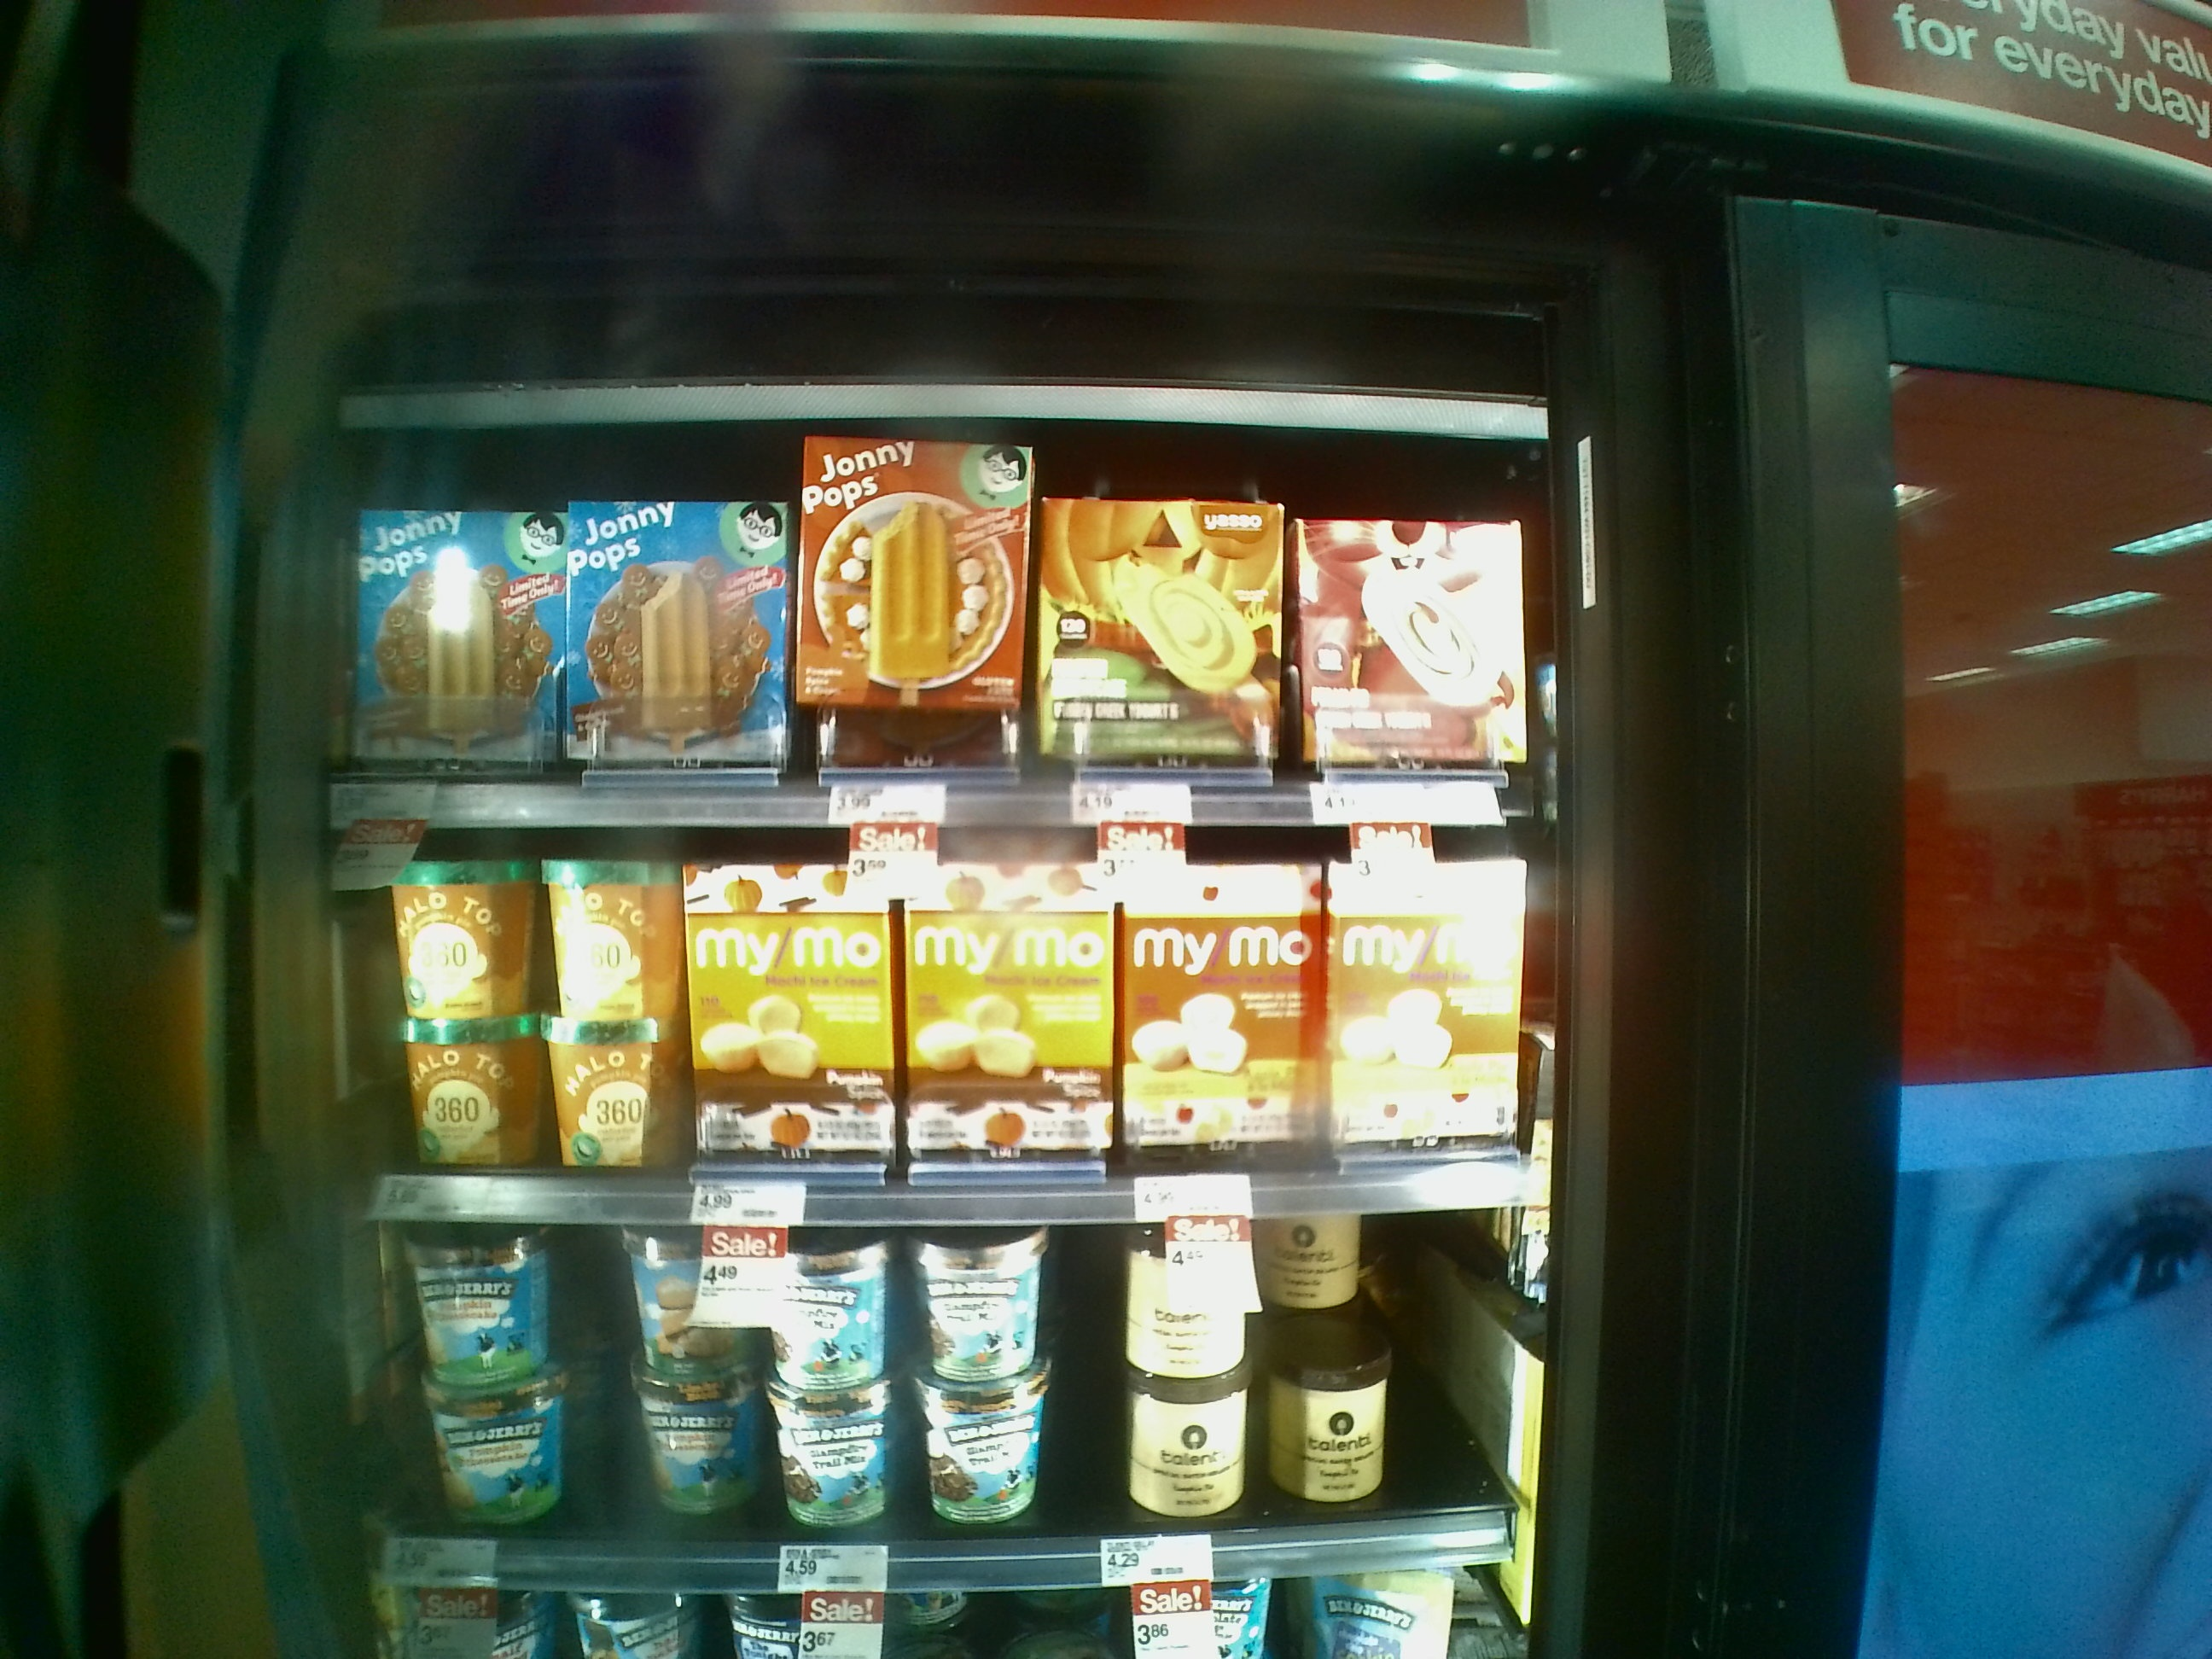shelf: (327, 444, 1550, 833), (298, 833, 1555, 1202), (303, 1215, 1534, 1570)
